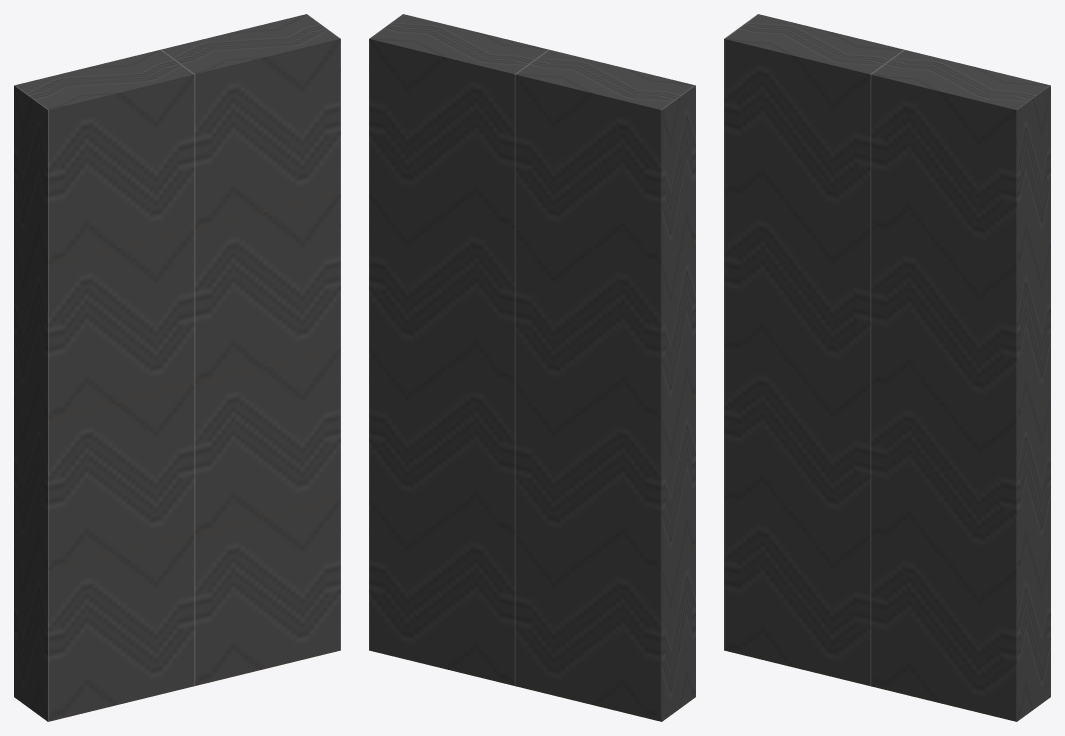
The model's file is PlatformStyle1.FBX.
3 renders of one model, left to right at view 1: azimuth 30°, elevation 25°; view 2: azimuth 150°, elevation 25°; view 3: azimuth 330°, elevation 25°, orthographic.
Visible parts, largest first — view 1: PlatformStyle1; view 2: PlatformStyle1; view 3: PlatformStyle1.
Boxes of the visible parts, x1,y1,x2,y2 form: PlatformStyle1: [14, 14, 340, 721]; PlatformStyle1: [369, 14, 695, 721]; PlatformStyle1: [724, 14, 1050, 721].
Size of the model in its own units: 20.04 by 40 by 4.02.
1 material, 1 textured.
